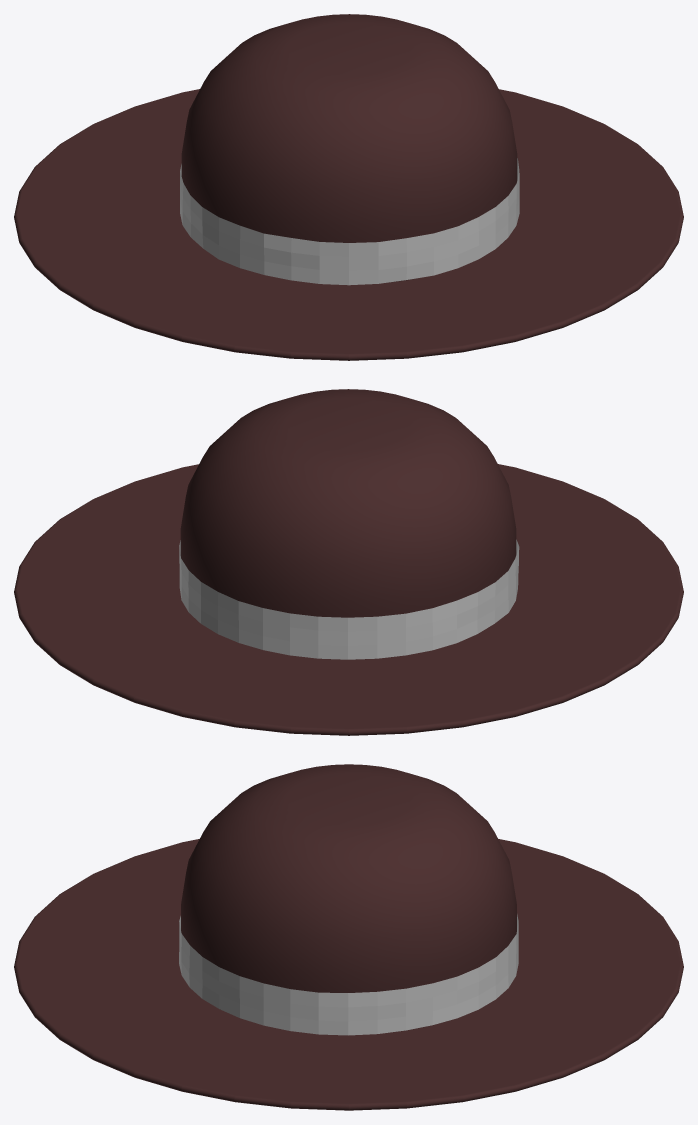
The model's file is brownSummerHat.fbx.
3 views of the same model, one above another, from view 1: azimuth 30°, elevation 25°; view 2: azimuth 150°, elevation 25°; view 3: azimuth 270°, elevation 25° (orthographic).
Parts seen in each view (by area): view 1: Base, Cylinder_1, ribon; view 2: Base, Cylinder_1, ribon; view 3: Base, Cylinder_1, ribon.
Part boxes in pixels (x1=…): Base: x1=14, y1=89, x2=683, y2=360; Cylinder_1: x1=181, y1=14, x2=517, y2=282; ribon: x1=180, y1=158, x2=519, y2=285; Base: x1=14, y1=464, x2=683, y2=735; Cylinder_1: x1=180, y1=389, x2=516, y2=659; ribon: x1=179, y1=539, x2=519, y2=659; Base: x1=14, y1=839, x2=683, y2=1110; Cylinder_1: x1=181, y1=764, x2=516, y2=1031; ribon: x1=179, y1=914, x2=518, y2=1035.
Size of the model in its own units: 1400 by 395 by 1400.
